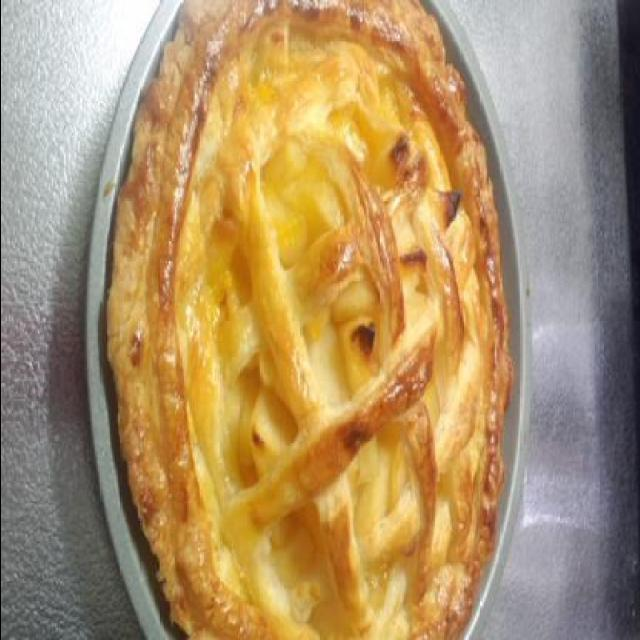Apple: (124, 3, 507, 639)
